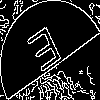E: (25, 25, 68, 82)
